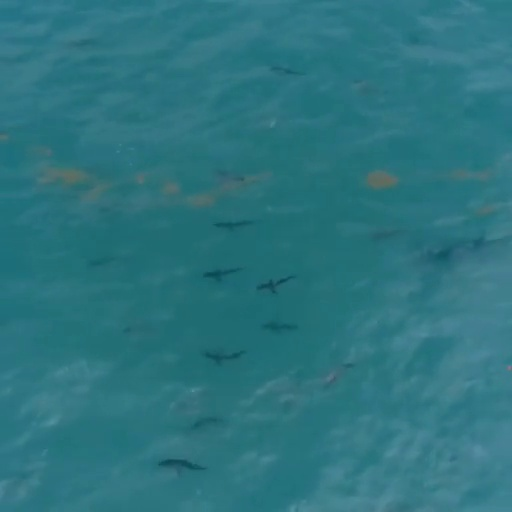shark: (418, 231, 509, 268)
